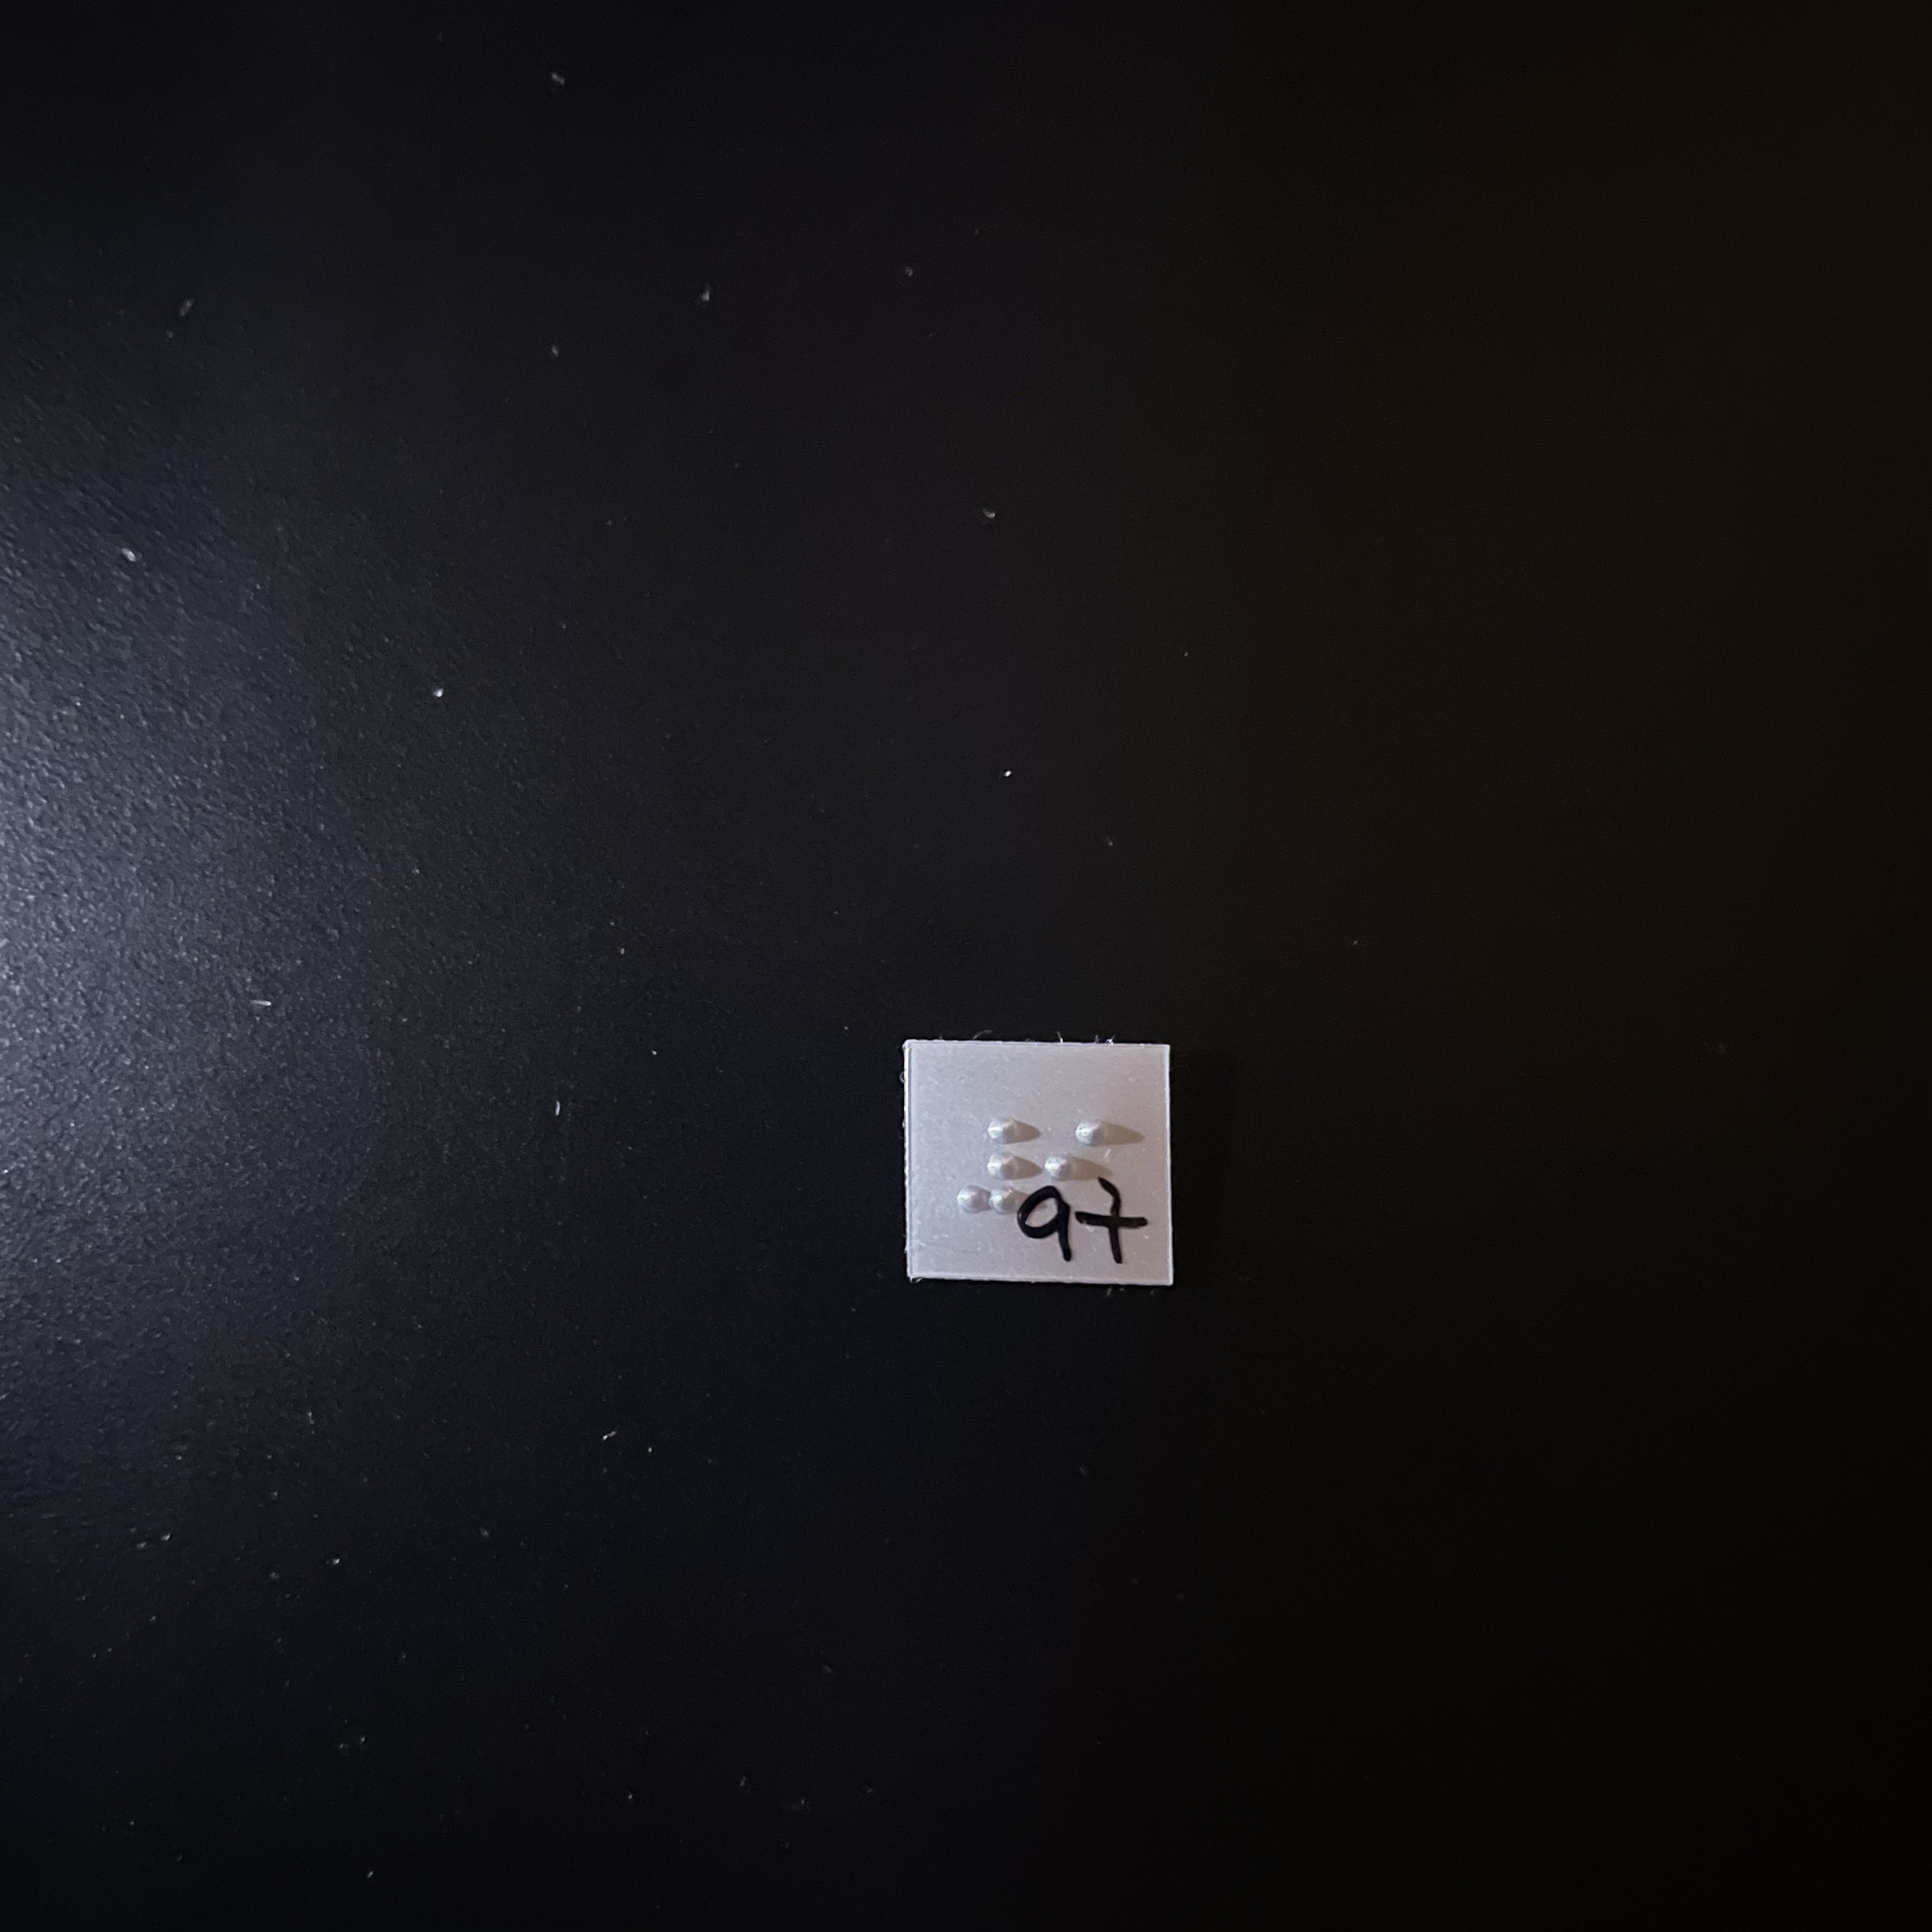#: (950, 1110, 1045, 1227)
i: (1043, 1108, 1122, 1231)
